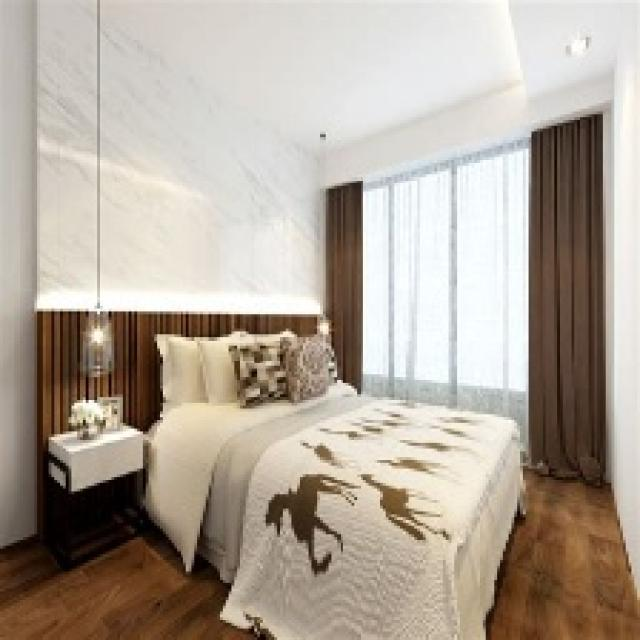Bed: (137, 317, 526, 637)
